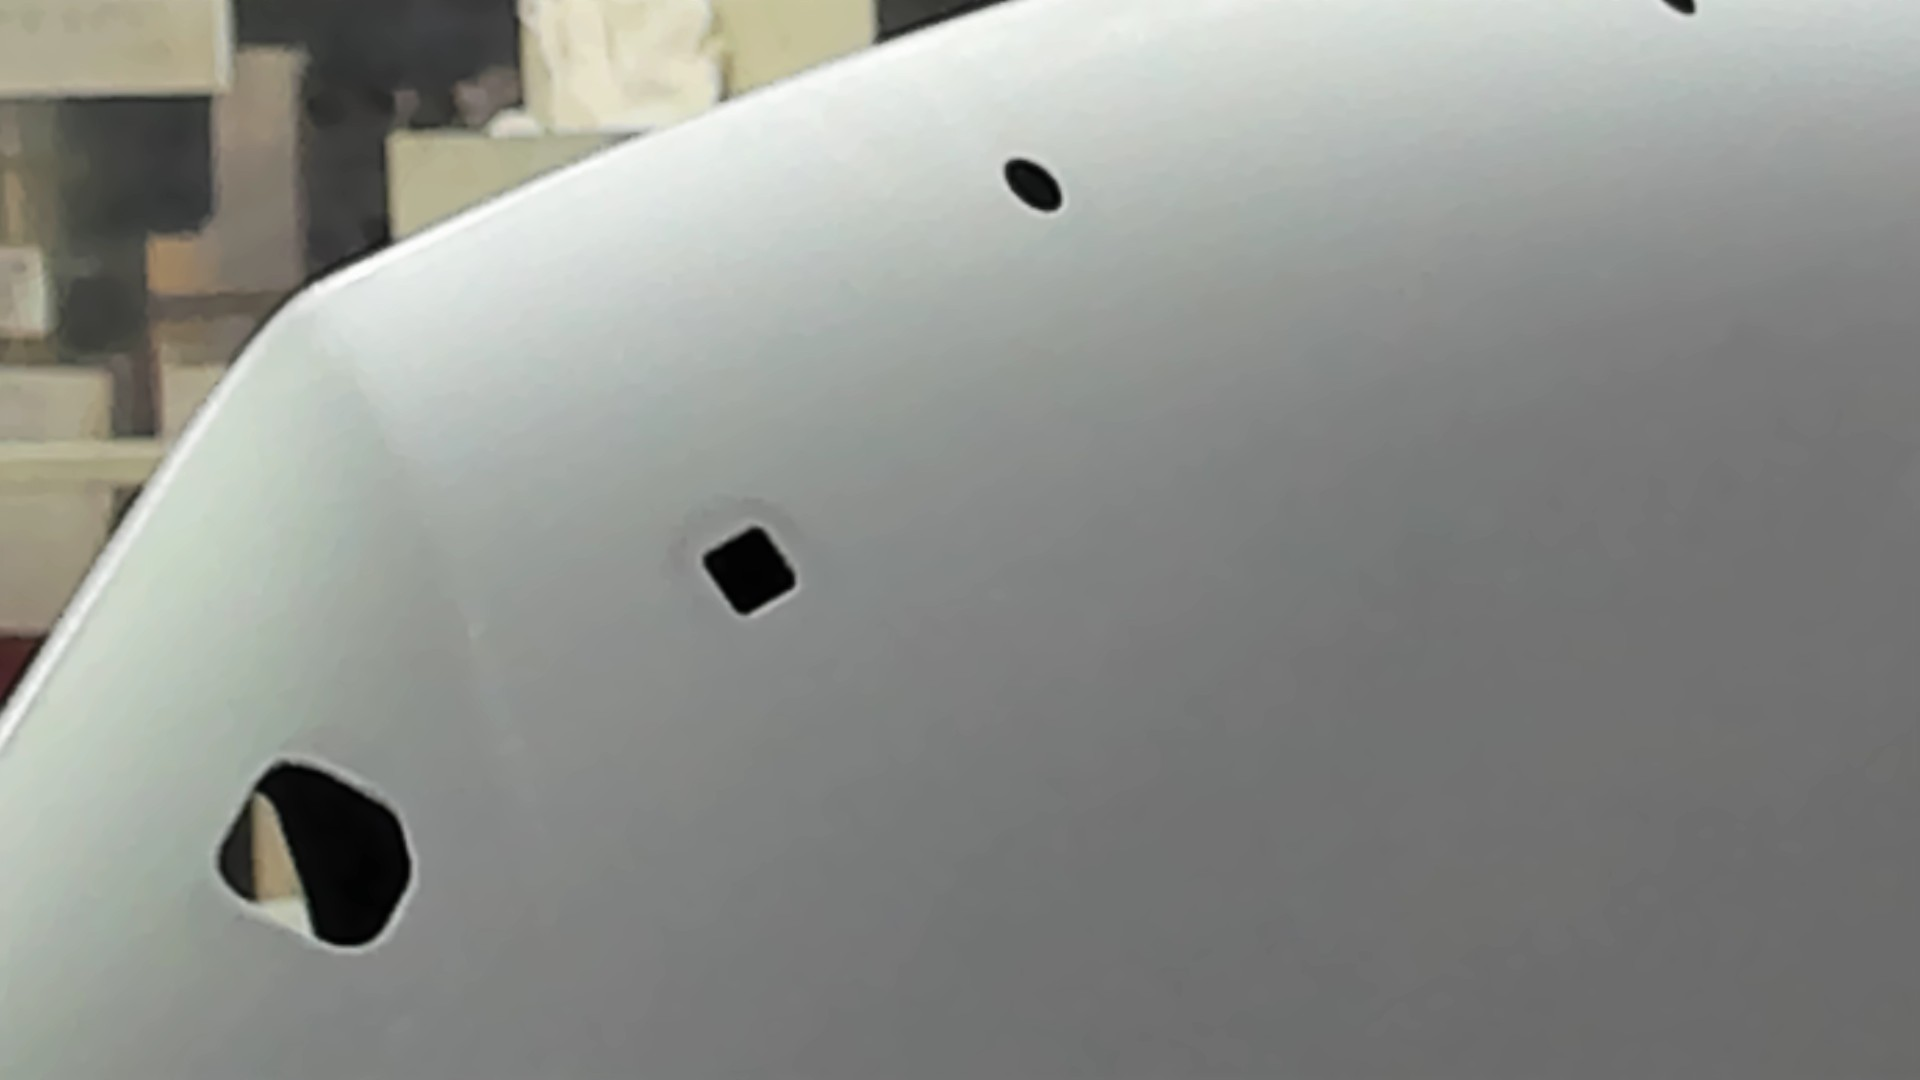chico: (1000, 154, 1065, 218), (1659, 1, 1702, 21)
grande: (204, 748, 419, 961)
mediano: (696, 513, 803, 622)
